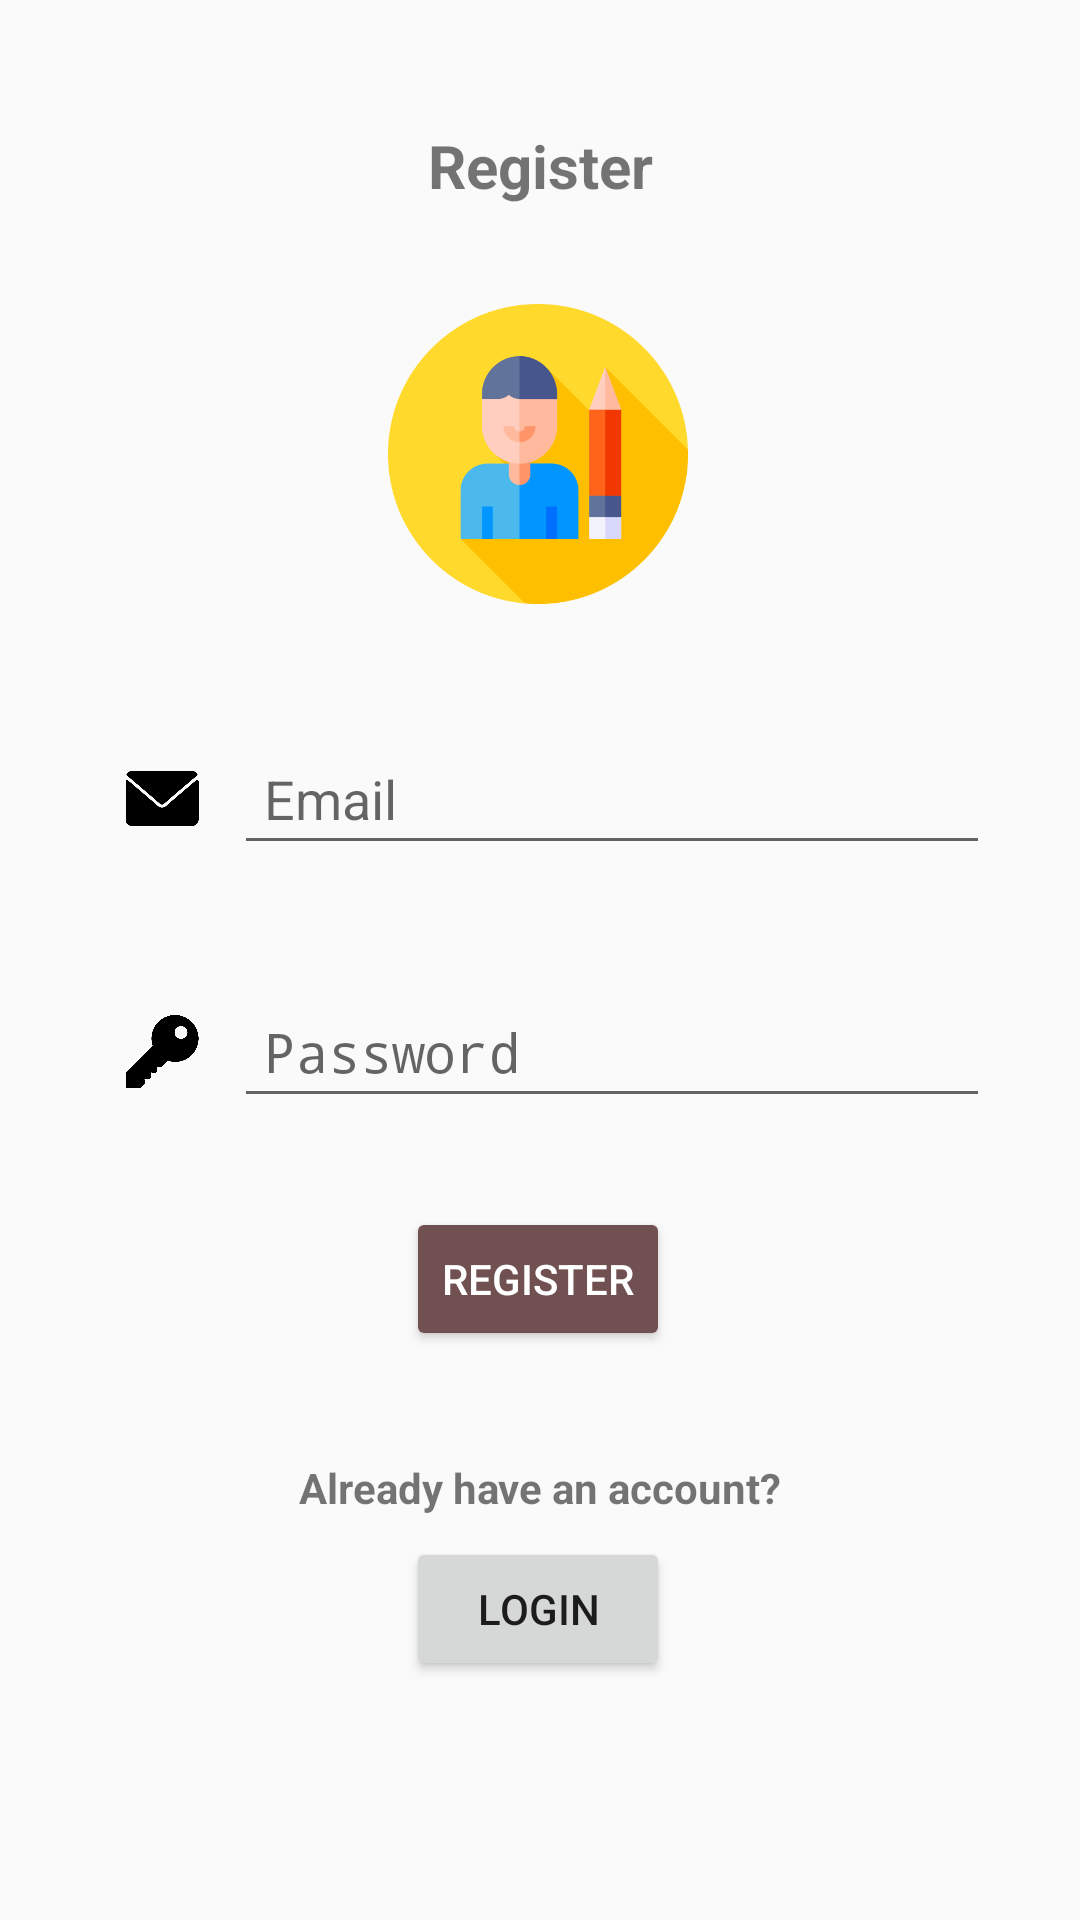

Named icons in this screenshot (1080*1920) and their centers, [x,y]:
key: [162,1051]
